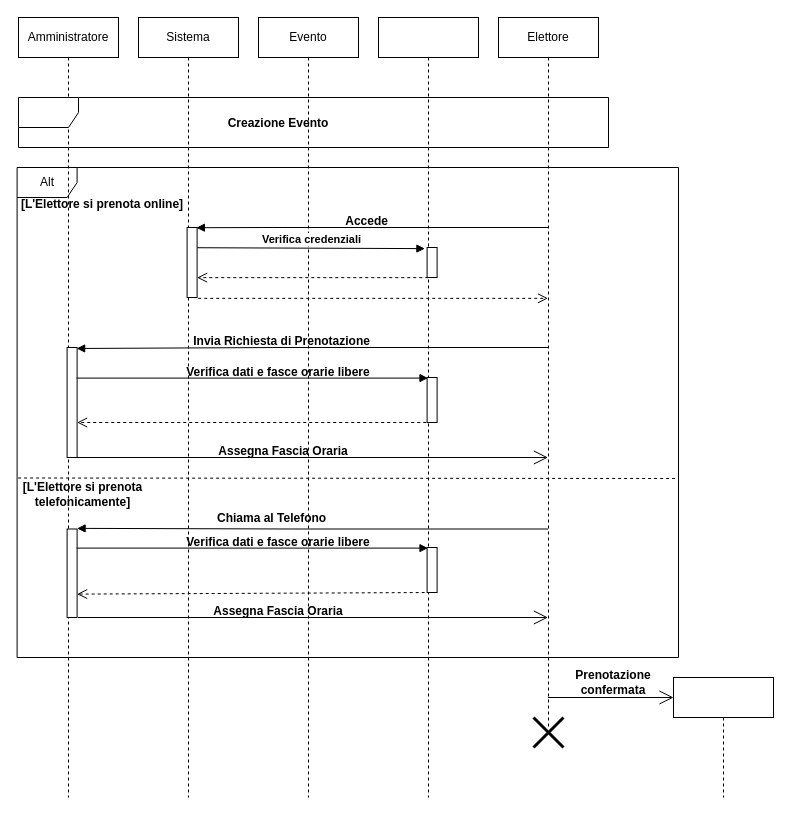
Some shapes in this 792 by 815 pixel diagram are drawn without their labels. Here are the shapes that lost their labels. From the top down, the centre of each, then its label:
At pixel 313 122: "Ref".
At pixel 428 407: "Database".
At pixel 723 737: "ElettoreInSede".
